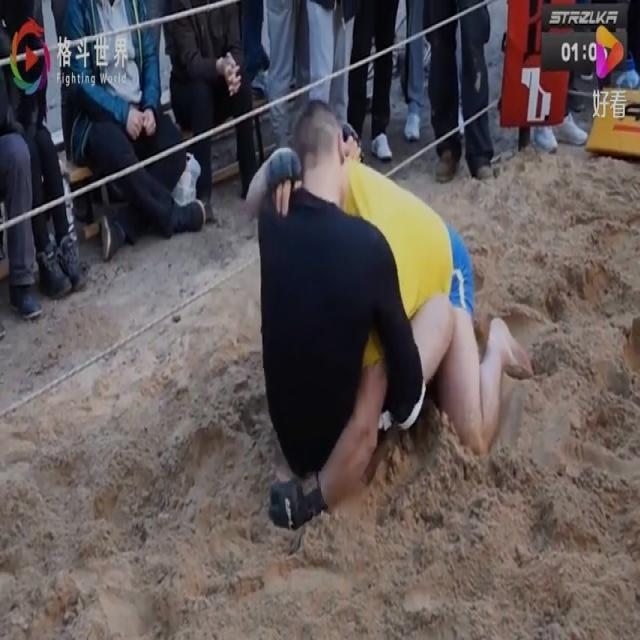fight: (238, 100, 540, 537)
